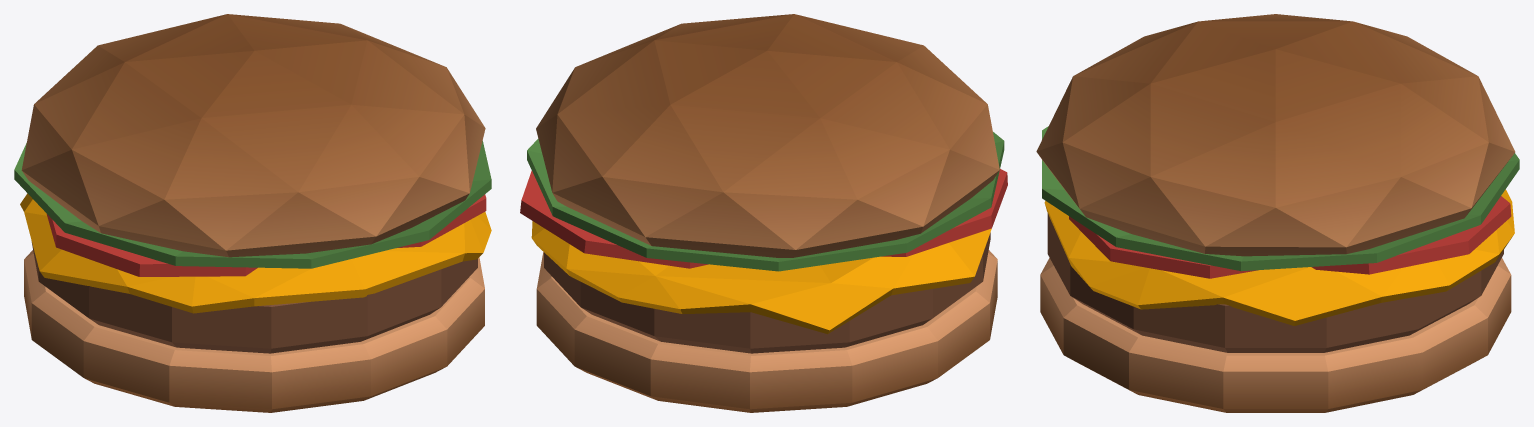
File: SM_Food_Burger_02.fbx
3 renders of one model, left to right at view 1: azimuth 30°, elevation 25°; view 2: azimuth 150°, elevation 25°; view 3: azimuth 270°, elevation 25°, orthographic.
Parts seen in each view (by area): view 1: SM_Food_Burger_02; view 2: SM_Food_Burger_02; view 3: SM_Food_Burger_02.
Part boxes in pixels (<box>): SM_Food_Burger_02: <box>14,14,491,412</box>; SM_Food_Burger_02: <box>520,14,1007,412</box>; SM_Food_Burger_02: <box>1036,14,1519,412</box>.
Bounding box in the file's own units: 0.1614 × 0.0996 × 0.1597.
